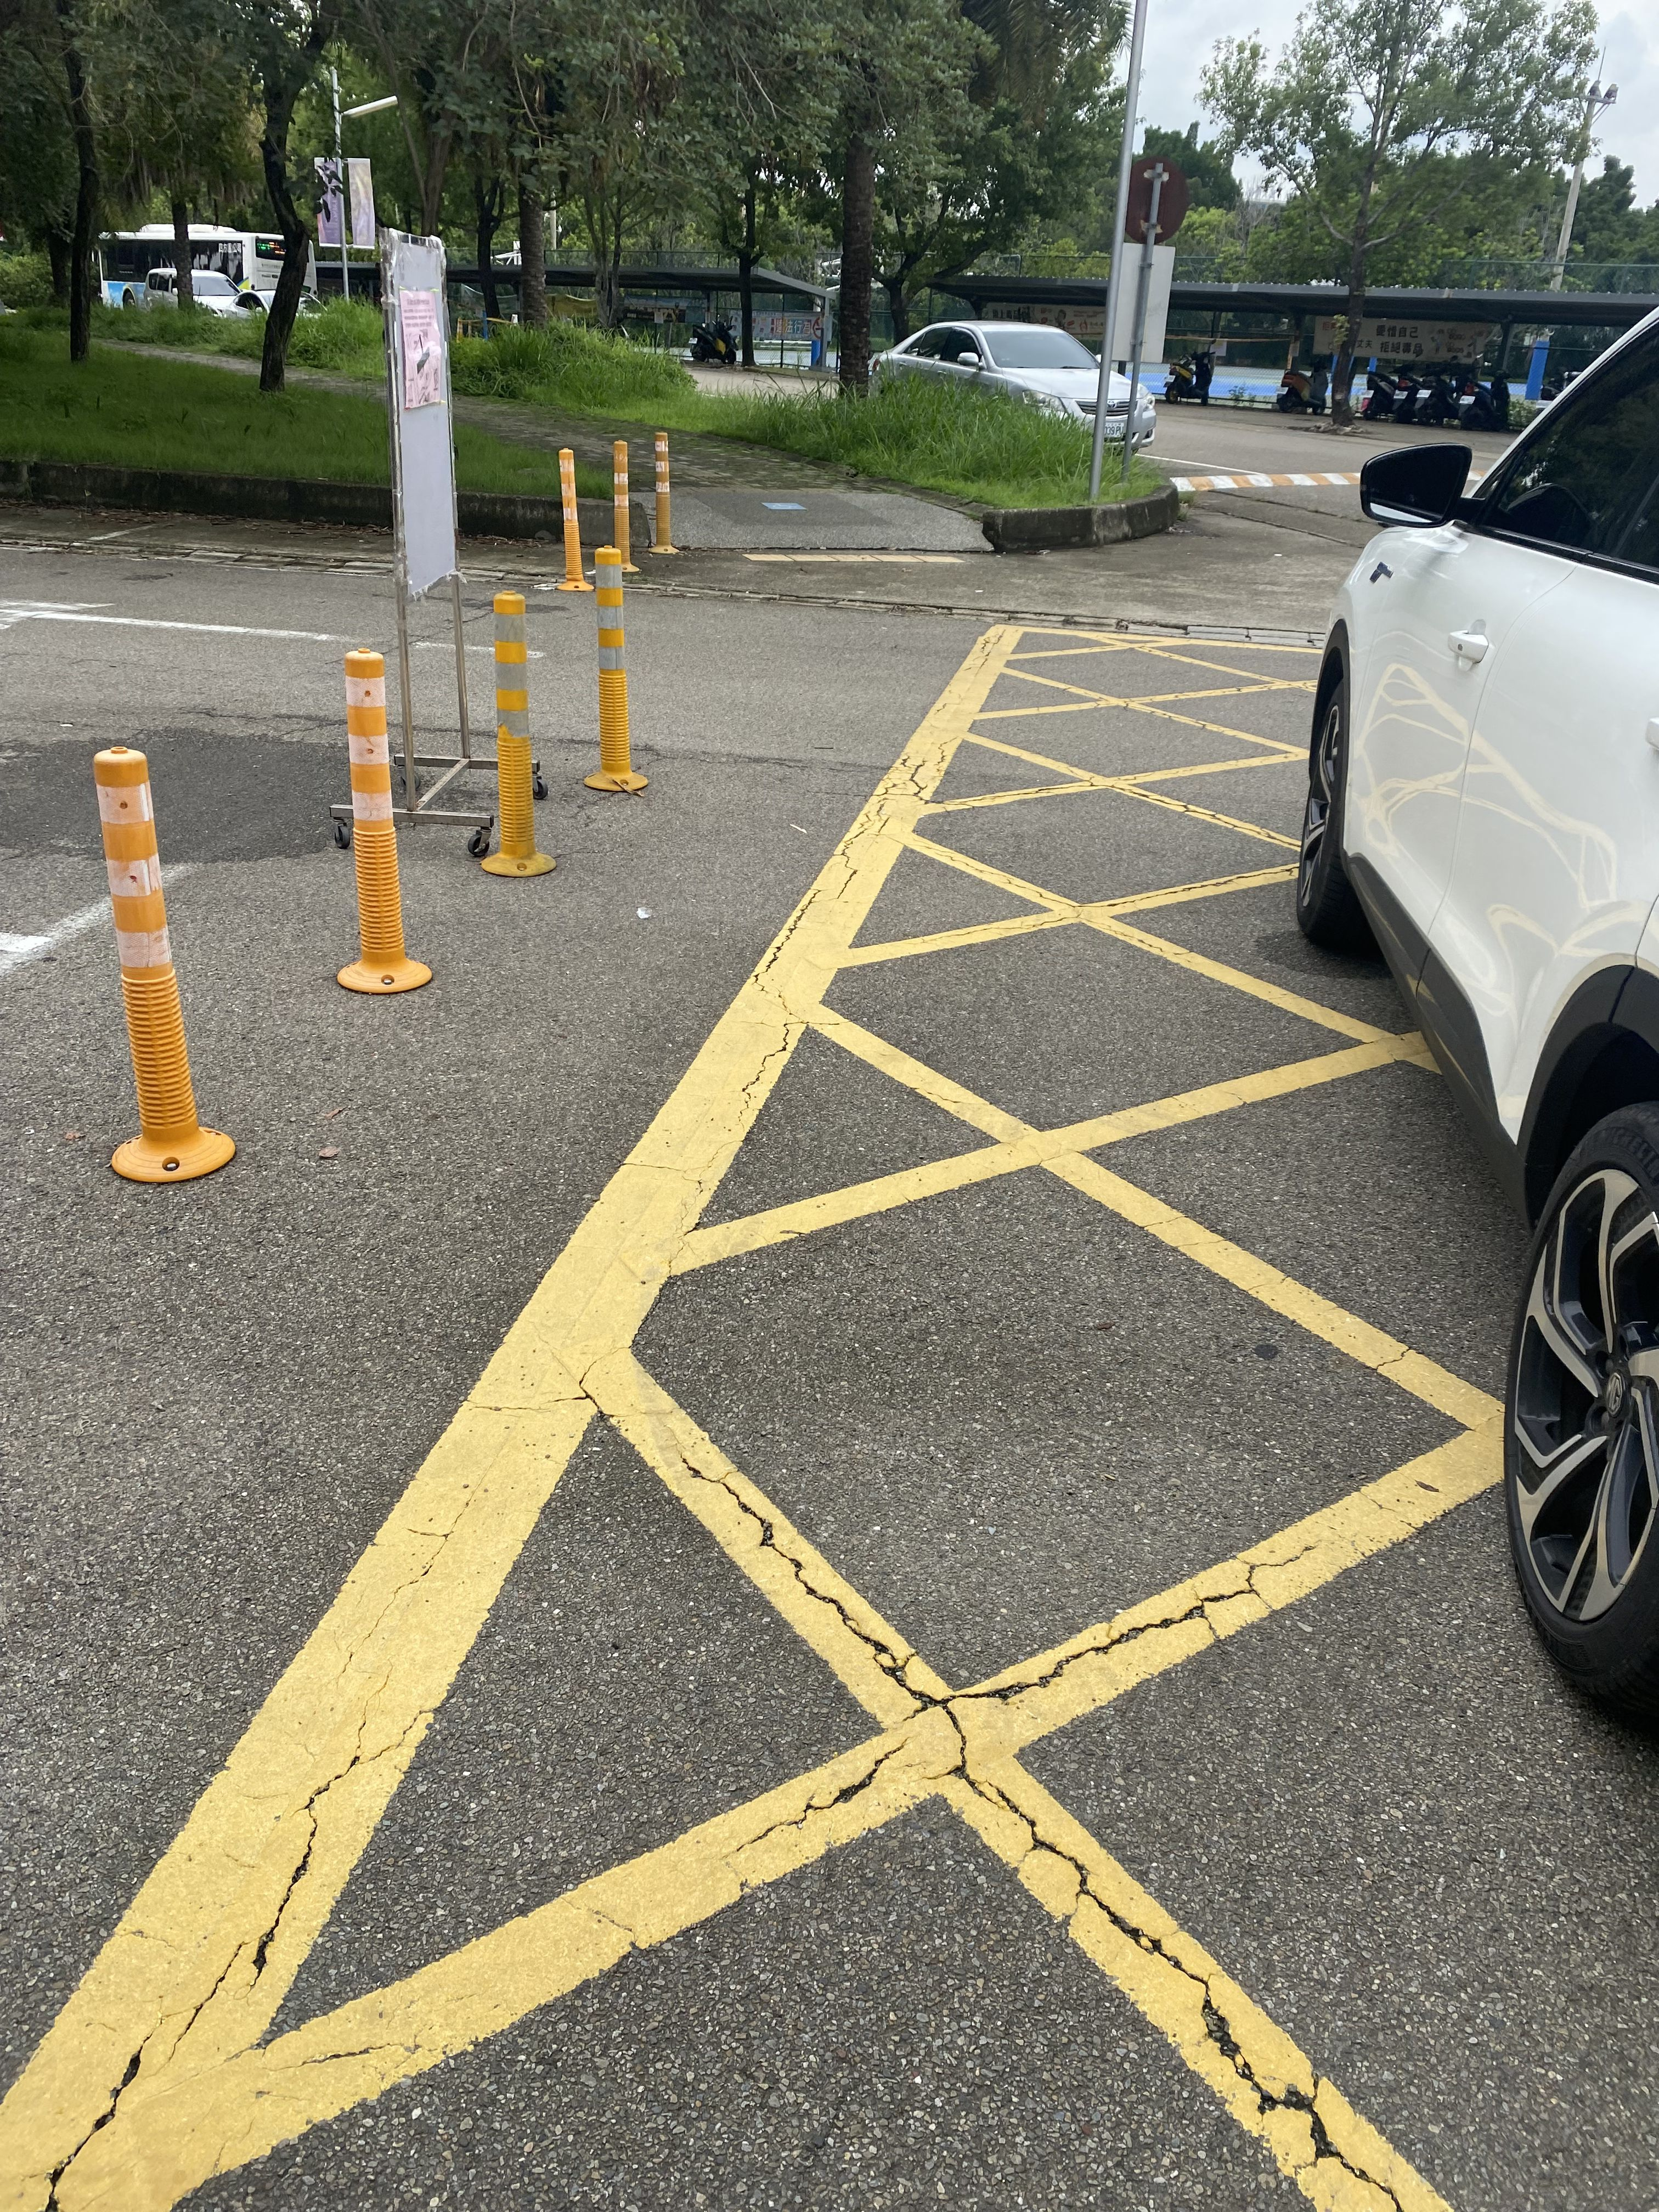0: (113, 308, 741, 449)
sidewalk: (589, 428, 1047, 570)
